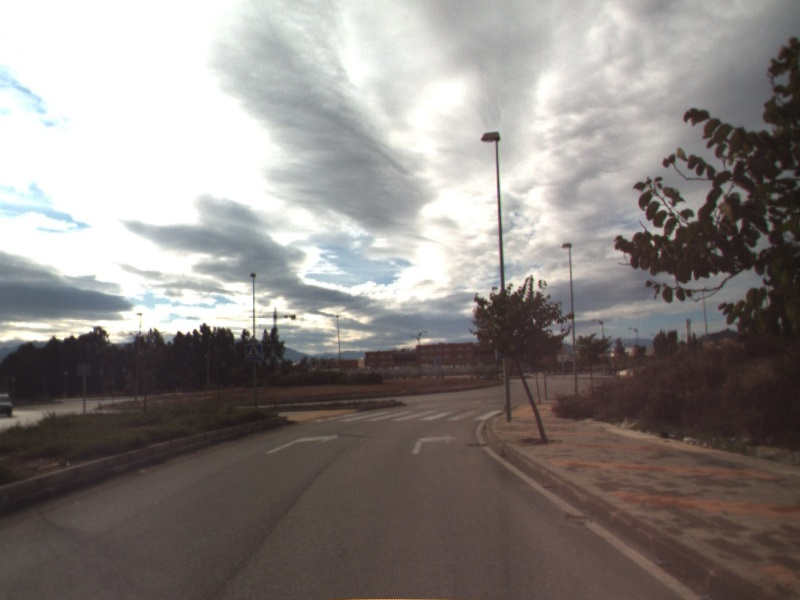RIGHT: (263, 430, 341, 456), (410, 431, 458, 456)
